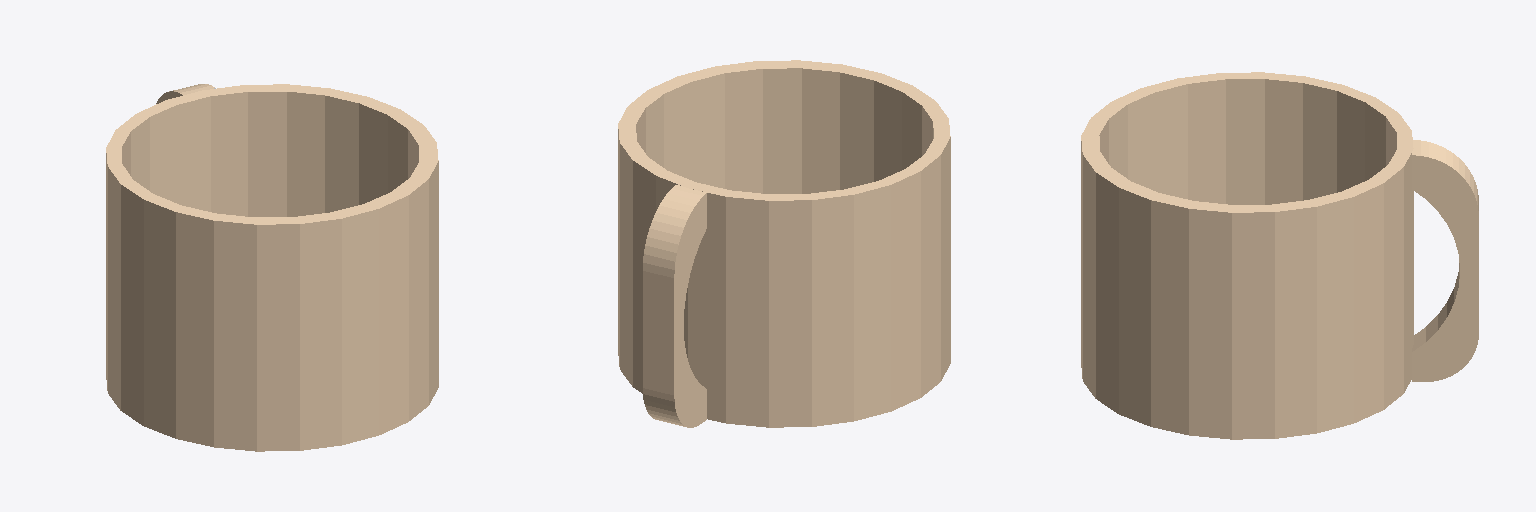
The picture shows the model from 3 angles: view 1: azimuth 30°, elevation 25°; view 2: azimuth 150°, elevation 25°; view 3: azimuth 270°, elevation 25°; orthographic projection.
Parts seen in each view (by area): view 1: model_normalized.012; view 2: model_normalized.012; view 3: model_normalized.012.
Part boxes in pixels (left/top/right/bottom): model_normalized.012: left=106, top=84, right=438, bottom=451; model_normalized.012: left=618, top=60, right=950, bottom=427; model_normalized.012: left=1081, top=72, right=1478, bottom=439.
Bounding box in the file's own units: 0.5776 × 0.4347 × 0.691.